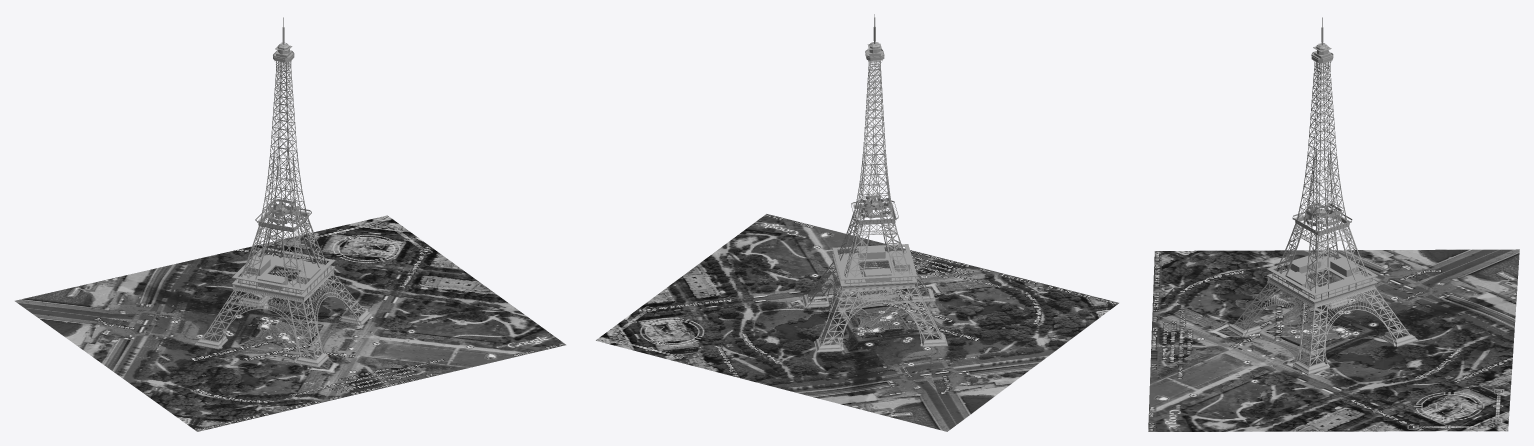
File: Sin.obj
The picture shows the model from 3 angles, left to right: view 1: azimuth 30°, elevation 25°; view 2: azimuth 150°, elevation 25°; view 3: azimuth 270°, elevation 25°; orthographic projection. The views are drawn at different scales.
Visible parts, largest first — view 1: Mesh2 Google_Earth_Snapshot Sin1 Model, Mesh6 ske70_1 Sin1 Model, Mesh198 ske70_1 Sin1 Model, Mesh5 ske70_1 Sin1 Model, Mesh197 ske70_1 Sin1 Model; view 2: Mesh2 Google_Earth_Snapshot Sin1 Model, Mesh6 ske70_1 Sin1 Model, Mesh1272 ske70_1 Sin1 Model, Mesh5 ske70_1 Sin1 Model, Mesh734 ske70_1 Sin1 Model; view 3: Mesh2 Google_Earth_Snapshot Sin1 Model, Mesh6 ske70_1 Sin1 Model, Mesh734 ske70_1 Sin1 Model, Mesh197 ske70_1 Sin1 Model, Mesh5 ske70_1 Sin1 Model, Mesh735 ske70_1 Sin1 Model, Mesh7 ske70_1 Sin1 Model, Mesh1272 ske70_1 Sin1 Model, Mesh198 ske70_1 Sin1 Model, Mesh1273 ske70_1 Sin1 Model, Mesh199 ske70_1 Sin1 Model, Mesh964 ske70_1 Sin1 Model (+3 smaller).
Part boxes in pixels (x1,y1,x2,y2): Mesh2 Google_Earth_Snapshot Sin1 Model: [15, 215, 565, 431]; Mesh6 ske70_1 Sin1 Model: [237, 255, 329, 294]; Mesh198 ske70_1 Sin1 Model: [217, 62, 300, 356]; Mesh5 ske70_1 Sin1 Model: [232, 247, 335, 290]; Mesh197 ske70_1 Sin1 Model: [288, 62, 358, 353]; Mesh2 Google_Earth_Snapshot Sin1 Model: [596, 214, 1118, 431]; Mesh6 ske70_1 Sin1 Model: [838, 251, 912, 283]; Mesh1272 ske70_1 Sin1 Model: [838, 61, 925, 343]; Mesh5 ske70_1 Sin1 Model: [832, 244, 917, 280]; Mesh734 ske70_1 Sin1 Model: [809, 68, 869, 338]; Mesh2 Google_Earth_Snapshot Sin1 Model: [1148, 249, 1519, 431]; Mesh6 ske70_1 Sin1 Model: [1272, 257, 1371, 299]; Mesh734 ske70_1 Sin1 Model: [1322, 63, 1396, 361]; Mesh197 ske70_1 Sin1 Model: [1244, 62, 1317, 360]; Mesh5 ske70_1 Sin1 Model: [1266, 248, 1377, 296]; Mesh735 ske70_1 Sin1 Model: [1309, 63, 1321, 366]; Mesh7 ske70_1 Sin1 Model: [1266, 255, 1377, 302]; Mesh1272 ske70_1 Sin1 Model: [1326, 62, 1401, 331]; Mesh198 ske70_1 Sin1 Model: [1246, 64, 1320, 322]; Mesh1273 ske70_1 Sin1 Model: [1330, 61, 1409, 334]; Mesh199 ske70_1 Sin1 Model: [1234, 61, 1314, 323]; Mesh964 ske70_1 Sin1 Model: [1292, 355, 1329, 374].
Size of the model in its own units: 393 by 322 by 338.
Materials: 22 (1 with a texture image).
